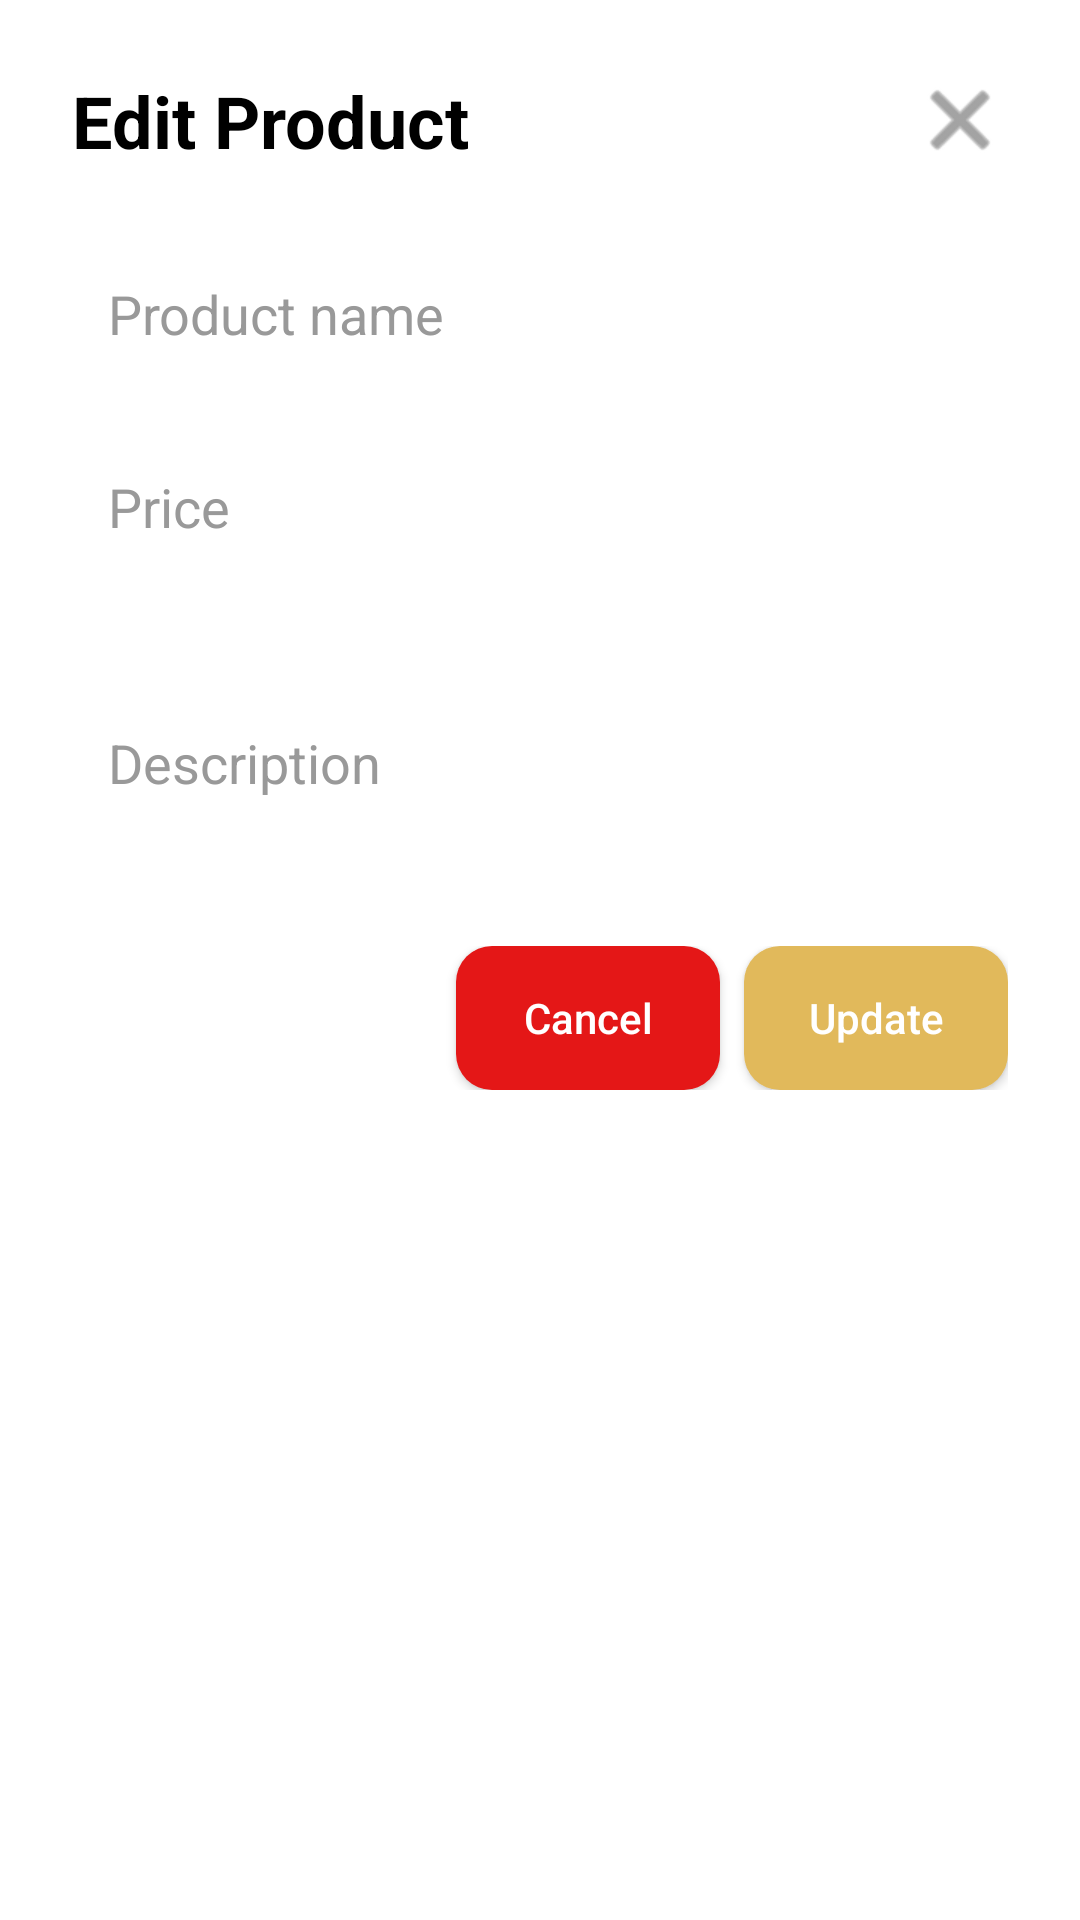

Where icons sit on this 1080×1920 app screen, as (x1, y1, x2, y2):
Close: (930, 90, 990, 150)
